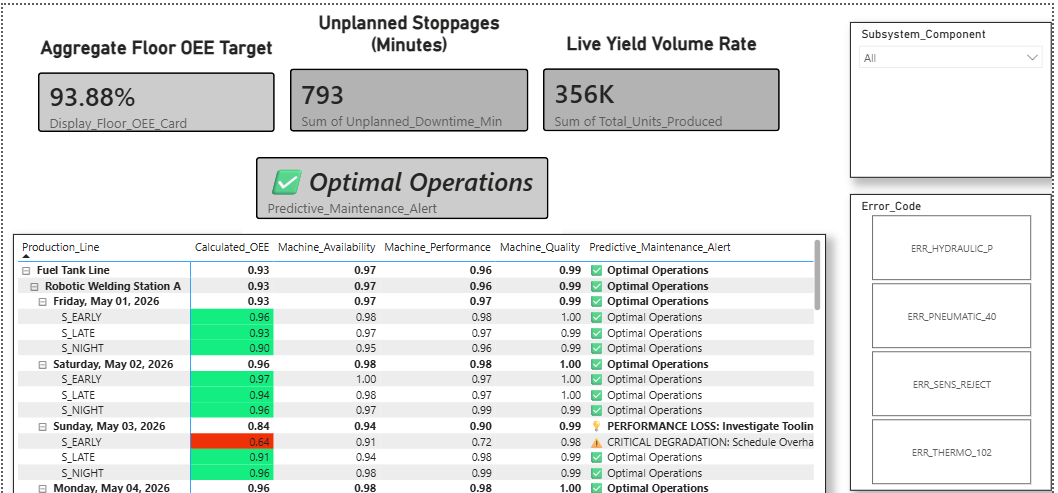

The page's visual inventory and layout, read from the dashboard file:
{"tool":"powerbi","page":{"name":"Page 1","canvas":[1280,720],"ordinal":0},"visuals":[{"type":"cardVisual","title":"Aggregate Floor OEE Target","fields":{"Data":["Fact_OEE_Production.Display_Floor_OEE_Card"]},"box":[25.5,39.3,323.8,133.7],"z":0,"group":"g1"},{"type":"pivotTable","fields":{"Rows":["Dim_Machines.Production_Line","Dim_Machines.Machine_Name","Fact_OEE_Production.Date","Fact_OEE_Production.Shift_ID"],"Values":["Fact_OEE_Production.Calculated_OEE","Fact_OEE_Production.Machine_Availability","Fact_OEE_Production.Machine_Performance","Fact_OEE_Production.Machine_Quality","Fact_OEE_Production.Predictive_Maintenance_Alert"]},"box":[12.8,279.2,992.2,428.1],"z":0},{"type":"group","id":"g1","title":"Group 1","box":[25.5,8.5,939.8,270.7],"z":1000},{"type":"cardVisual","title":"Unplanned Stoppages (Minutes)","fields":{"Data":["Sum(Fact_OEE_Production.Unplanned_Downtime_Min)"]},"box":[333.5,8.5,325.2,163.7],"z":1000,"group":"g1"},{"type":"slicer","fields":{"Values":["Fact_Machine_Failures.Subsystem_Component"]},"box":[1033.5,20.7,246.5,190.4],"z":2000},{"type":"cardVisual","title":"Live Yield Volume Rate","fields":{"Data":["Sum(Fact_OEE_Production.Total_Units_Produced)"]},"box":[641.5,34.4,323.8,137.8],"z":2000,"group":"g1"},{"type":"cardVisual","fields":{"Data":["Fact_OEE_Production.Predictive_Maintenance_Alert"]},"box":[291.2,168.8,391.1,110.5],"z":3000,"group":"g1"},{"type":"slicer","fields":{"Values":["Fact_Machine_Failures.Error_Code"]},"box":[1033.5,230.6,246.5,362.4],"z":3000}]}

Visuals, with their boxes on the page's 1280x720 design canvas (x1, y1, x2, y2). These are canvas units, not pixel positions in the 1058x493 screenshot, which may show the page scaled, cropped or inside an application window:
"Aggregate Floor OEE Target" cardVisual: x1=26, y1=39, x2=349, y2=173
pivotTable - Dim_Machines.Production_Line x Dim_Machines.Machine_Name: x1=13, y1=279, x2=1005, y2=707
"Group 1" group: x1=26, y1=8, x2=965, y2=279
"Unplanned Stoppages (Minutes)" cardVisual: x1=334, y1=8, x2=659, y2=172
slicer - Fact_Machine_Failures.Subsystem_Component: x1=1034, y1=21, x2=1280, y2=211
"Live Yield Volume Rate" cardVisual: x1=642, y1=34, x2=965, y2=172
cardVisual - Fact_OEE_Production.Predictive_Maintenance_Alert: x1=291, y1=169, x2=682, y2=279
slicer - Fact_Machine_Failures.Error_Code: x1=1034, y1=231, x2=1280, y2=593
